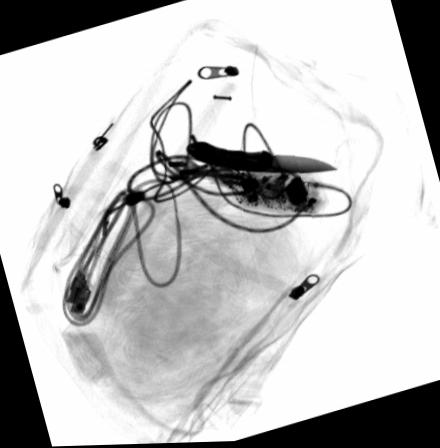Knife: (185, 142, 340, 176)
